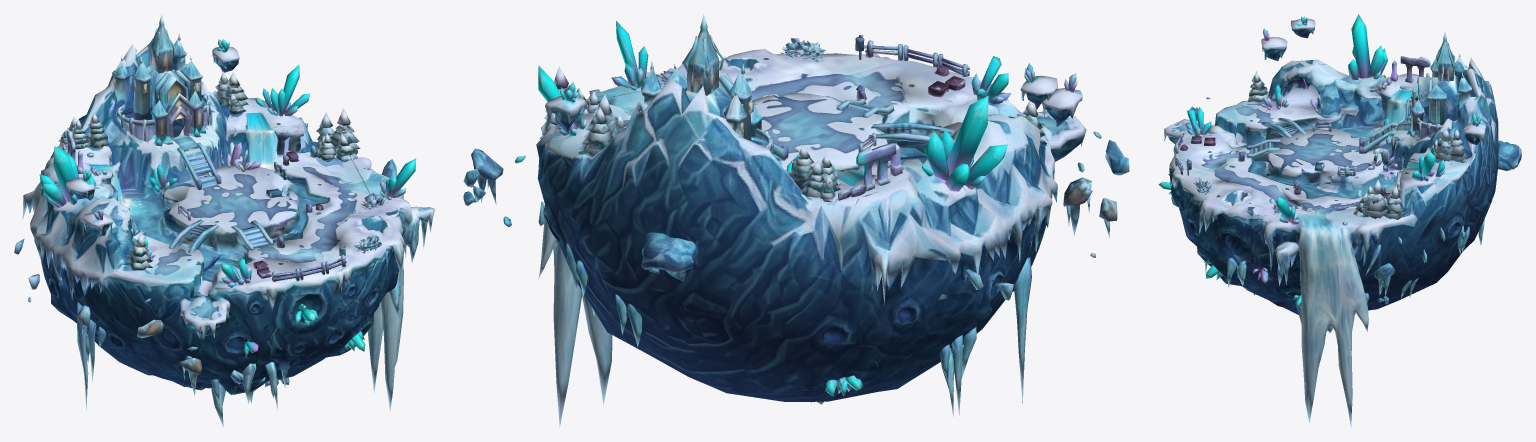
File: Floating_Ice_Castle_I.glb
3 views of the same model, side by side, from view 1: azimuth 30°, elevation 25°; view 2: azimuth 150°, elevation 25°; view 3: azimuth 270°, elevation 25° (orthographic). The views are drawn at different scales.
Visible parts, largest first — view 1: Floating_Ice_Castle_I; view 2: Floating_Ice_Castle_I; view 3: Floating_Ice_Castle_I.
Part boxes in pixels (bbox=[...]): Floating_Ice_Castle_I: bbox=[14, 14, 434, 427]; Floating_Ice_Castle_I: bbox=[463, 14, 1129, 427]; Floating_Ice_Castle_I: bbox=[1158, 14, 1521, 427].
Size of the model in its own units: 0.9536 by 0.8281 by 0.8271.
1 material, 1 textured.
